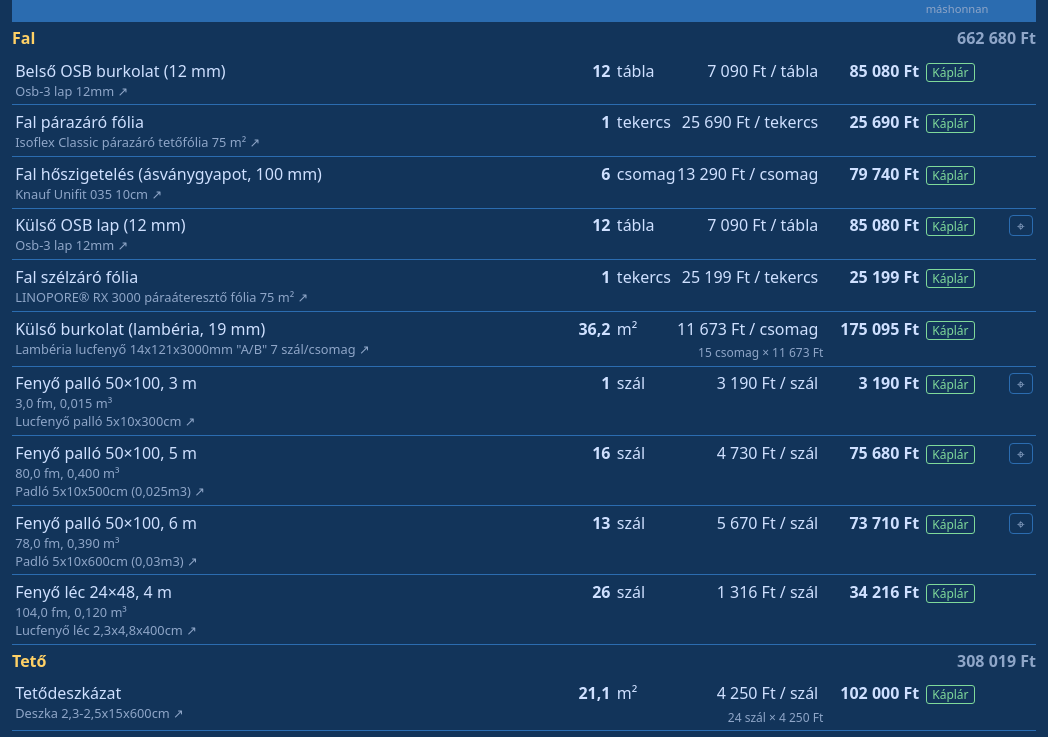
editing the price writes an override and updates the total
(page scrolled)
Step 1. Click the button "3 190 Ft / szál" → coordinates (768, 383), box [712,371,823,395]
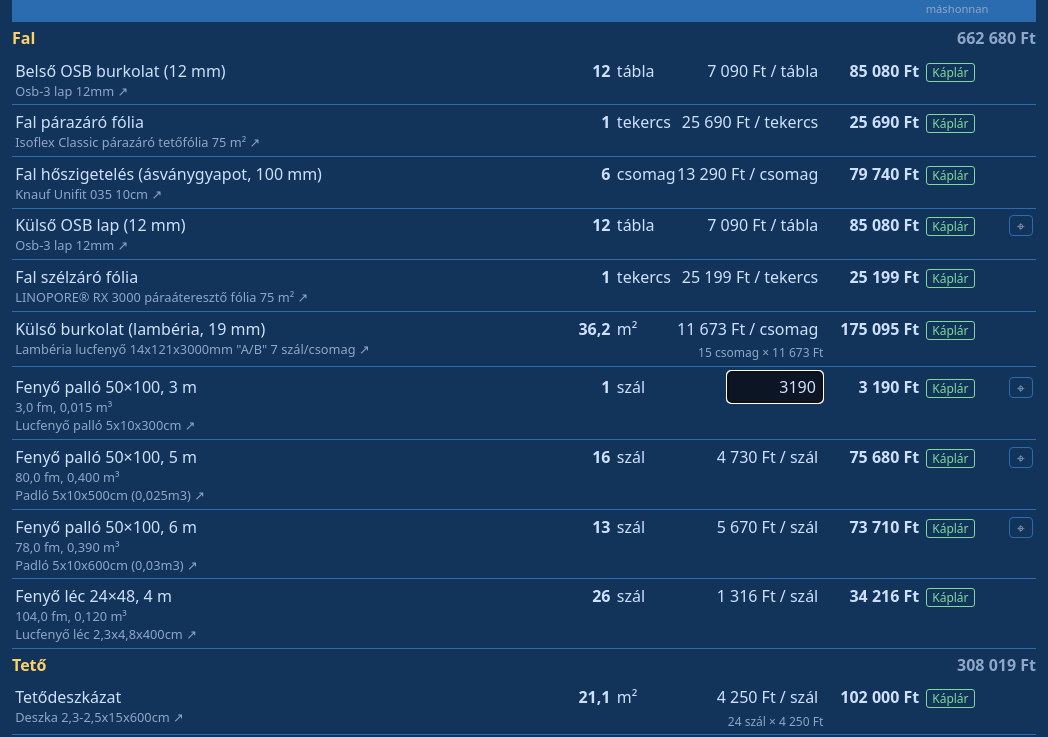
Step 2. Replace the text in the field named "Egységár" with "1999,6" → coordinates (775, 387), box [727,371,823,403]
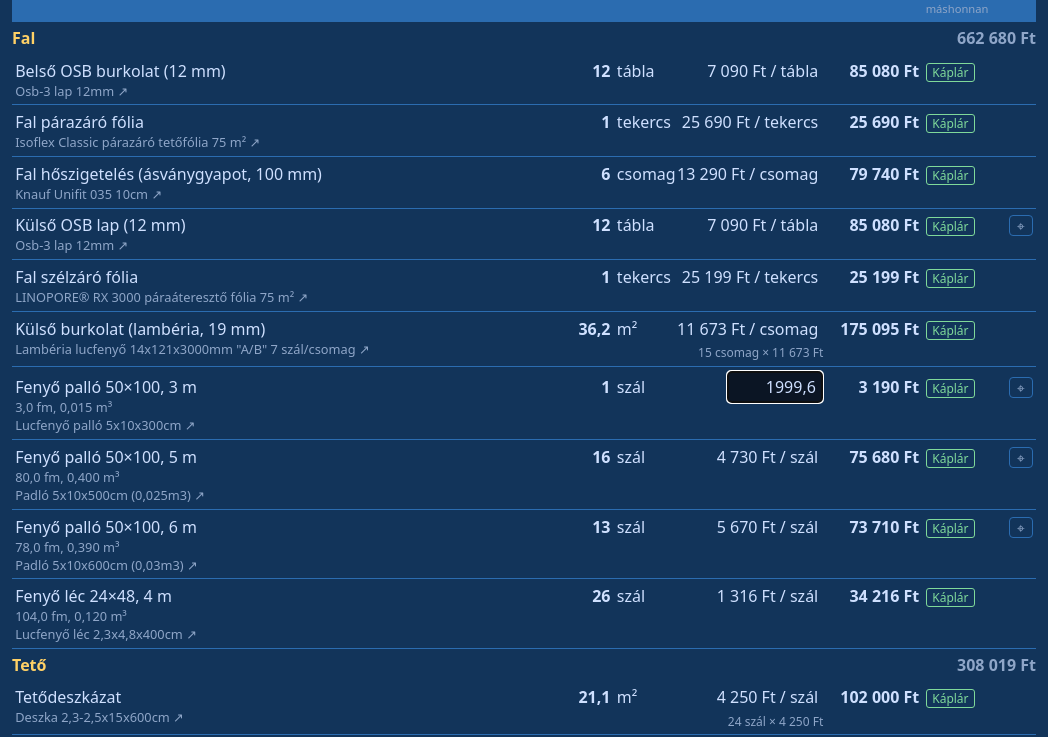
Step 3. Press Enter in the field named "Egységár", box [727,371,823,403]
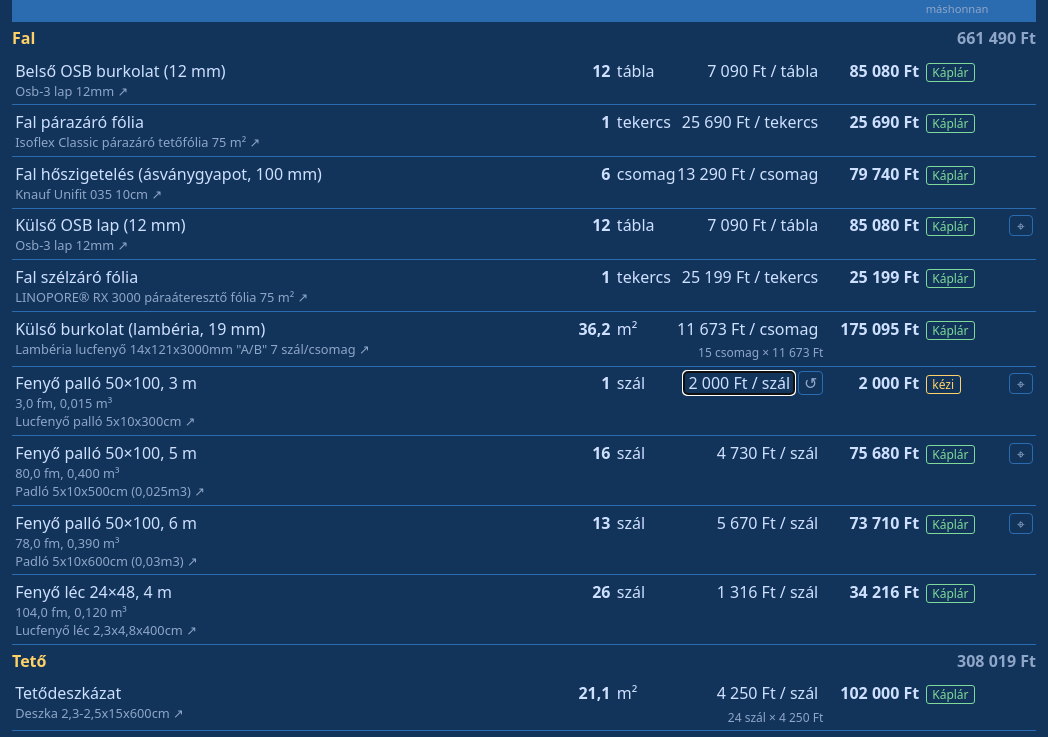
Expected: the text "kézi" is shown, [926,375,961,394]
